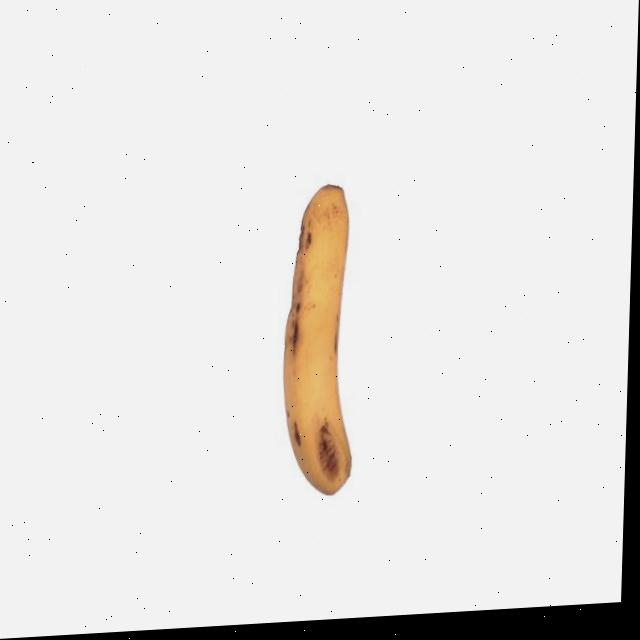banana: (274, 176, 366, 508)
